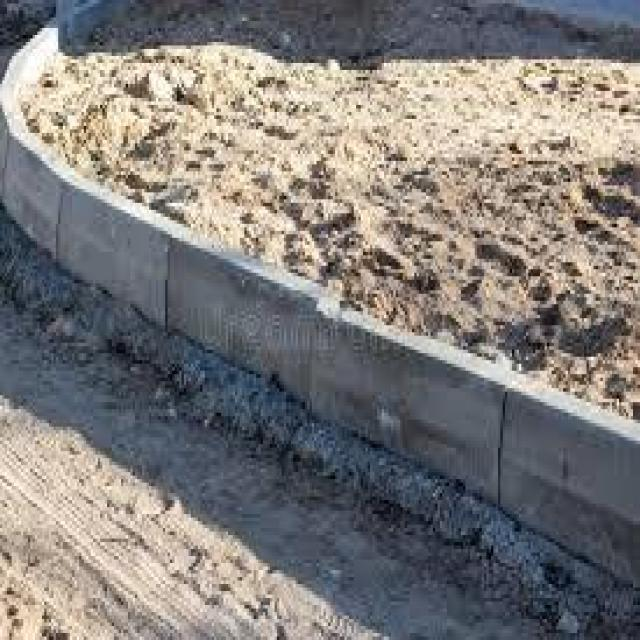curb: (309, 311, 640, 564), (86, 234, 319, 390), (2, 112, 103, 283)
